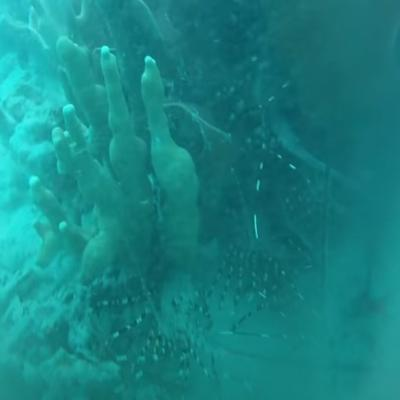lobster: (148, 268, 202, 366)
